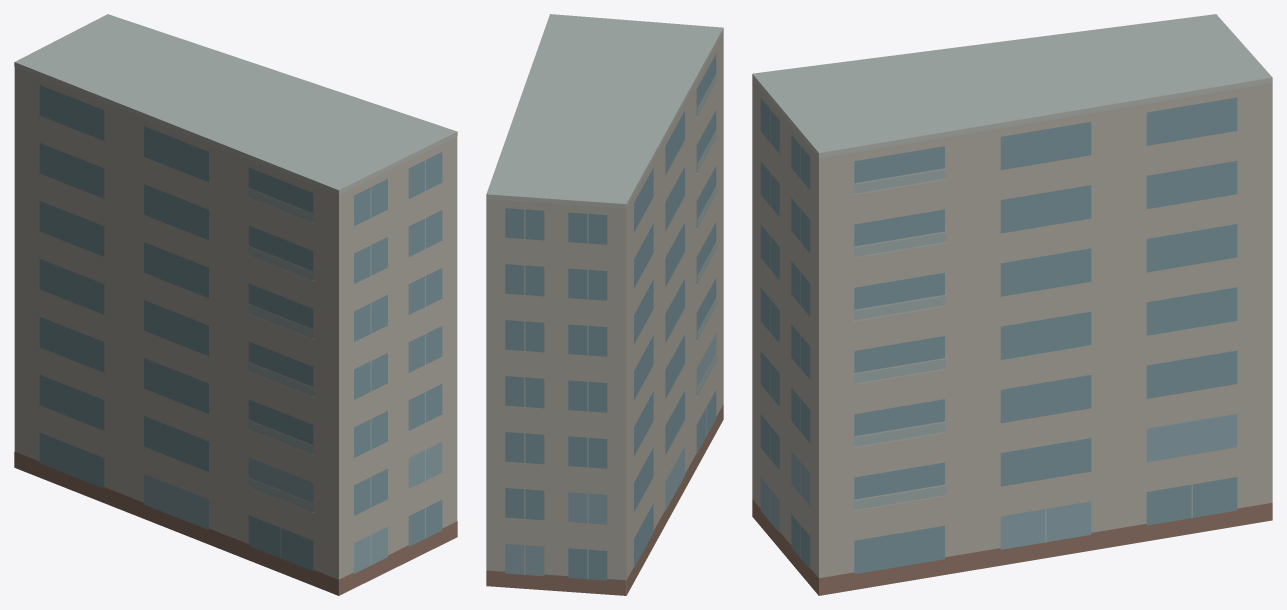
Rendered from survey-upis-32829350.glb.
3 renders of one model, left to right at view 1: azimuth 30°, elevation 25°; view 2: azimuth 150°, elevation 25°; view 3: azimuth 270°, elevation 25°, orthographic. The views are drawn at different scales.
Parts seen in each view (by area): view 1: survey-upis-32829350.tmp; view 2: survey-upis-32829350.tmp; view 3: survey-upis-32829350.tmp.
Part boxes in pixels (x1,y1,x2,y2): survey-upis-32829350.tmp: [14, 14, 457, 595]; survey-upis-32829350.tmp: [486, 14, 723, 595]; survey-upis-32829350.tmp: [752, 14, 1272, 595].
Bounding box in the file's own units: 14.22 × 21.1 × 22.48.
